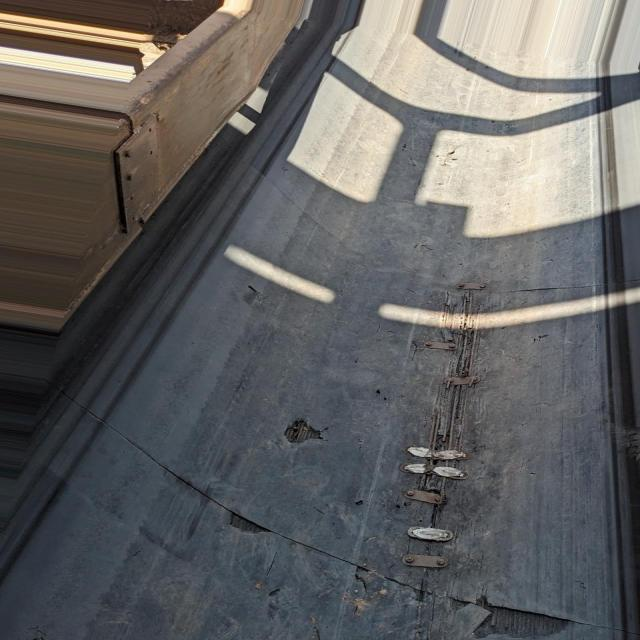Tear: (105, 429, 579, 640), (264, 408, 343, 452), (506, 270, 587, 304), (228, 284, 270, 310)
patch work: (397, 281, 493, 589)
